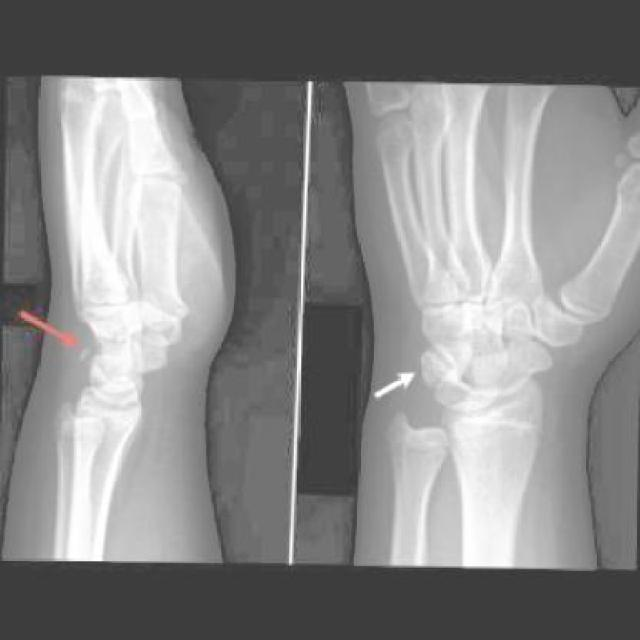Fracture: (420, 348, 457, 385), (77, 343, 99, 365)
